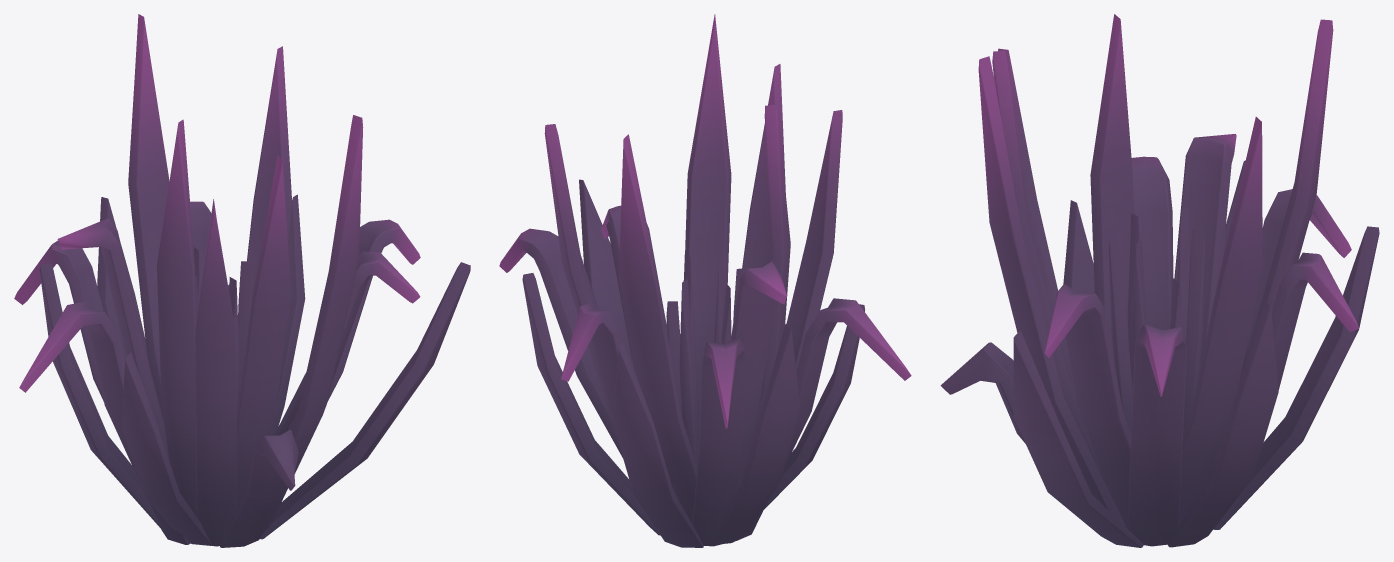
Rendered from candy-bloom-a.glb.
3 renders of one model, left to right at view 1: azimuth 30°, elevation 25°; view 2: azimuth 150°, elevation 25°; view 3: azimuth 270°, elevation 25°, orthographic. The views are drawn at different scales.
Parts seen in each view (by area): view 1: Plant; view 2: Plant; view 3: Plant.
Part boxes in pixels (left/top/right/bottom): Plant: left=14, top=14, right=470, bottom=547; Plant: left=499, top=14, right=911, bottom=547; Plant: left=940, top=14, right=1379, bottom=547.
Size of the model in its own units: 675 by 711 by 560.
1 material, 1 textured.
